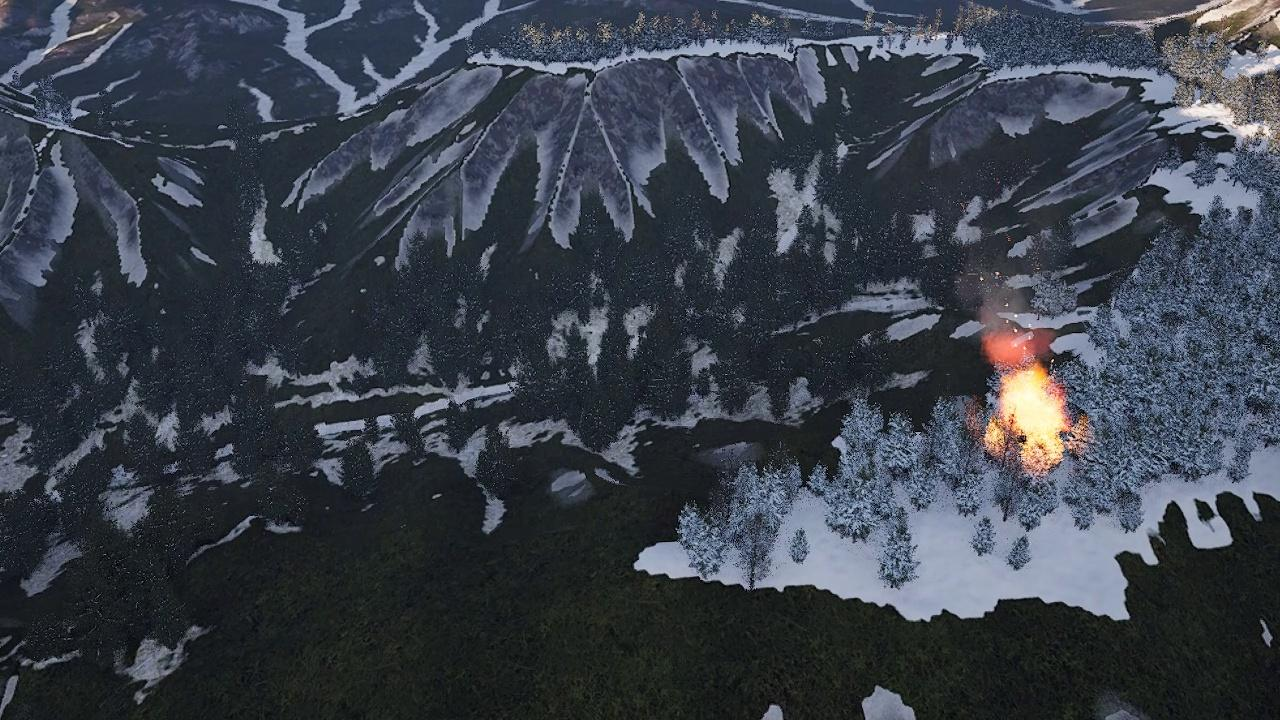fire: (984, 365, 1074, 467)
smoke: (953, 271, 1045, 368)
